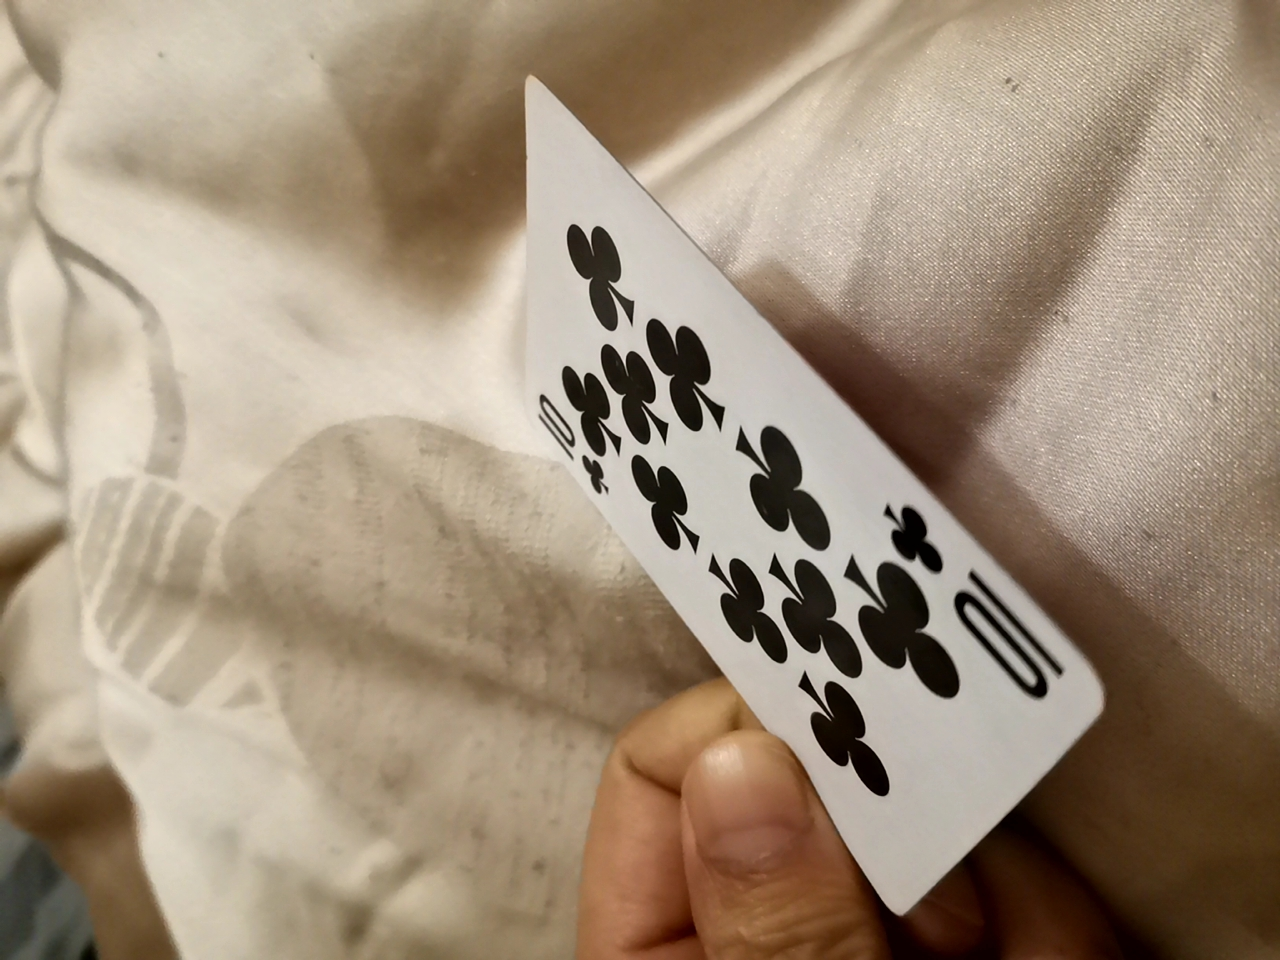mh 10: (478, 105, 1076, 913)
